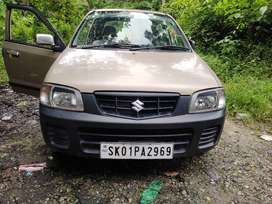SK01PA2969: (100, 142, 172, 159)
